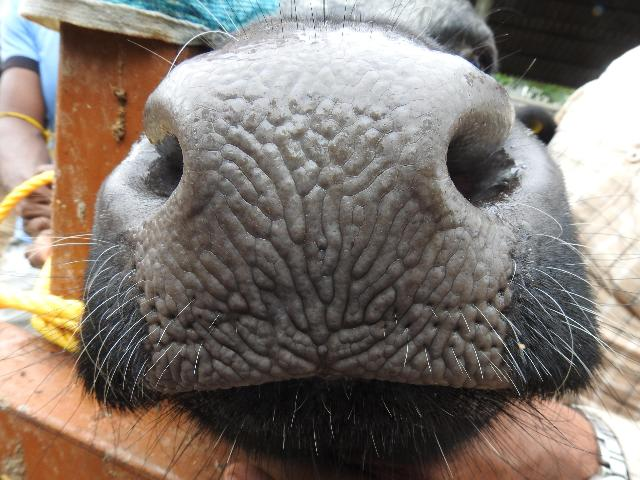Muzzle: (159, 85, 505, 405)
